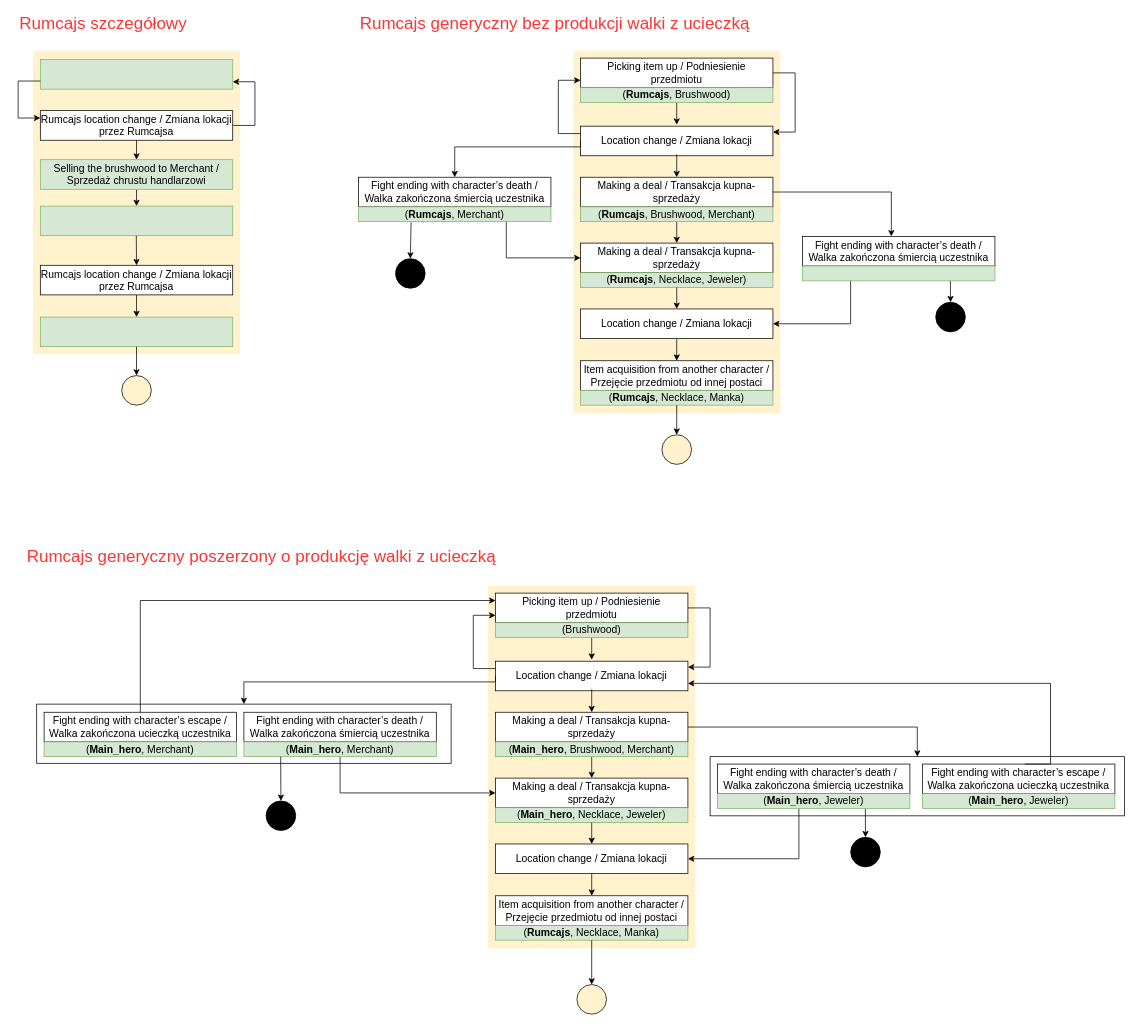
This 1138x1027 diagram has some shape labels left out. Here are the shapes that lost their labels. From the top down, the centre of each, then its label:
the point at 136,74: Picking up brushwood / Podnoszenie chrustu
the point at 136,220: Buying the necklace made by Jeweler / Kupno korali stworzonych przez jubilera
the point at 898,273: ( Rumcajs , Jeweler)
the point at 136,331: Giving the necklace to Manka / Ofiarowanie Hance korali
